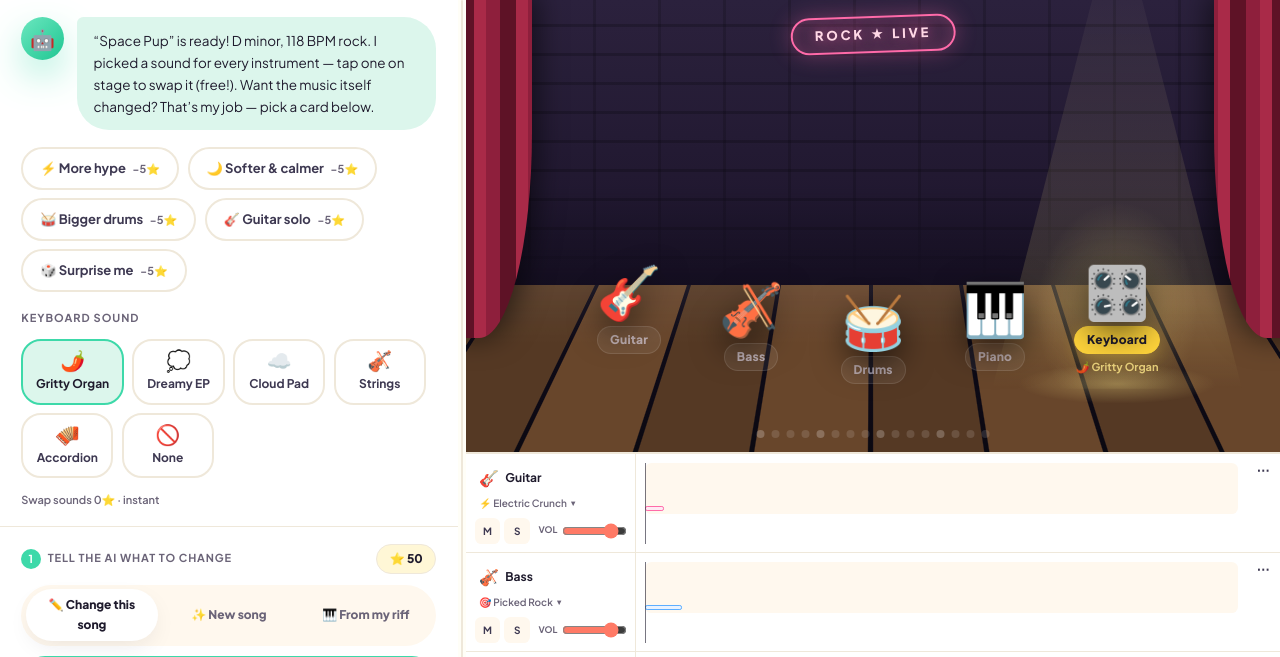
it: MusicStagePane — versions (AC-7) › the stage pop closes on ✕ without touching the styles
Step 1. Click the button with test id "stage-inst-piano" → (995, 337), box [936, 281, 1054, 393]
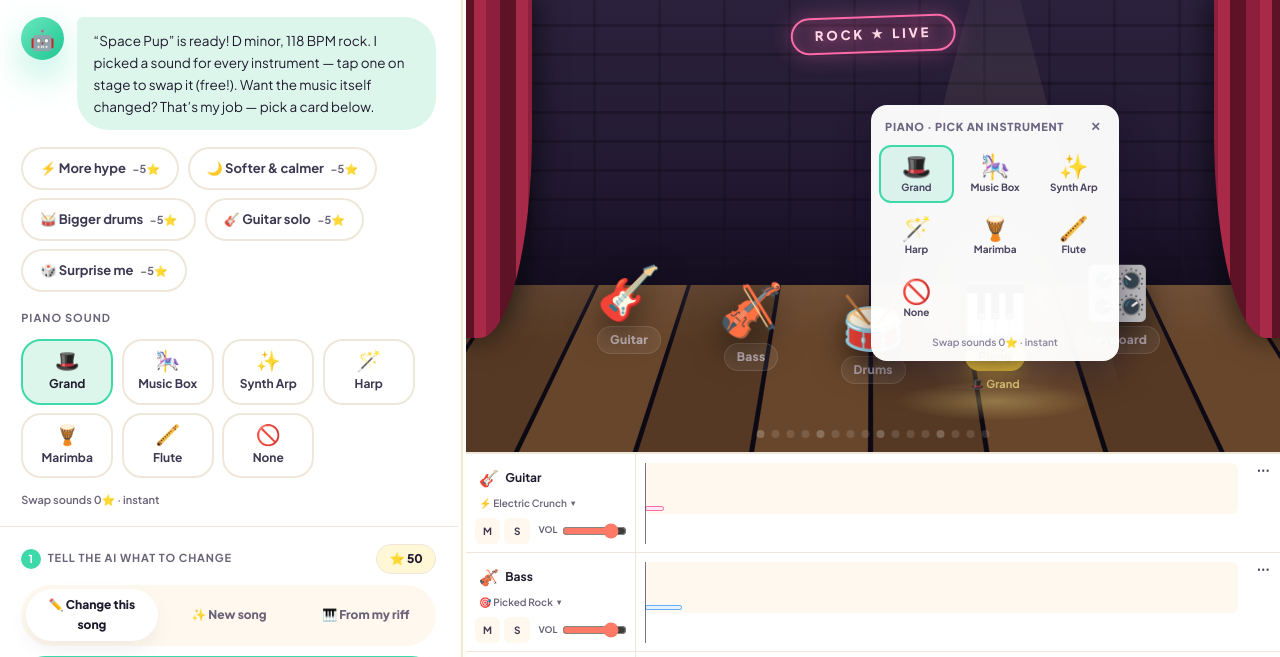
Expected: the element with test id "stage-pop" is shown, [871, 105, 1119, 361]
Step 2. Click the button with test id "stage-pop-close" → (1096, 127), box [1086, 115, 1105, 139]
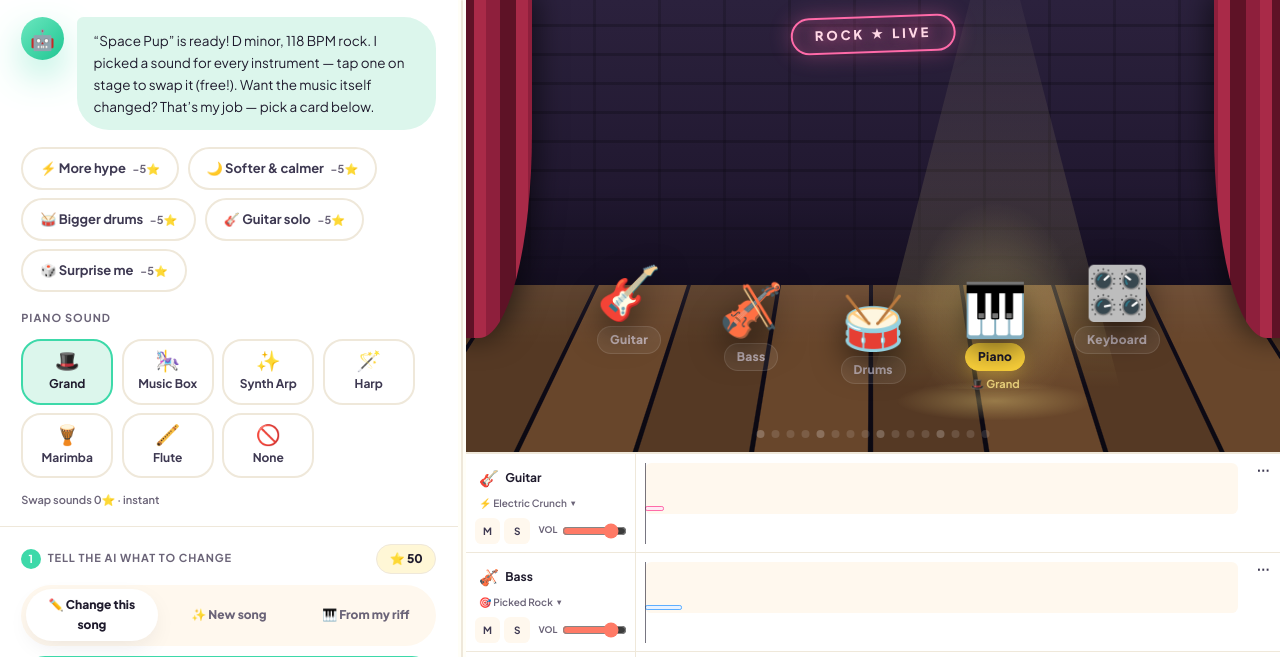
Expected: the element with test id "stage-pop" is gone
